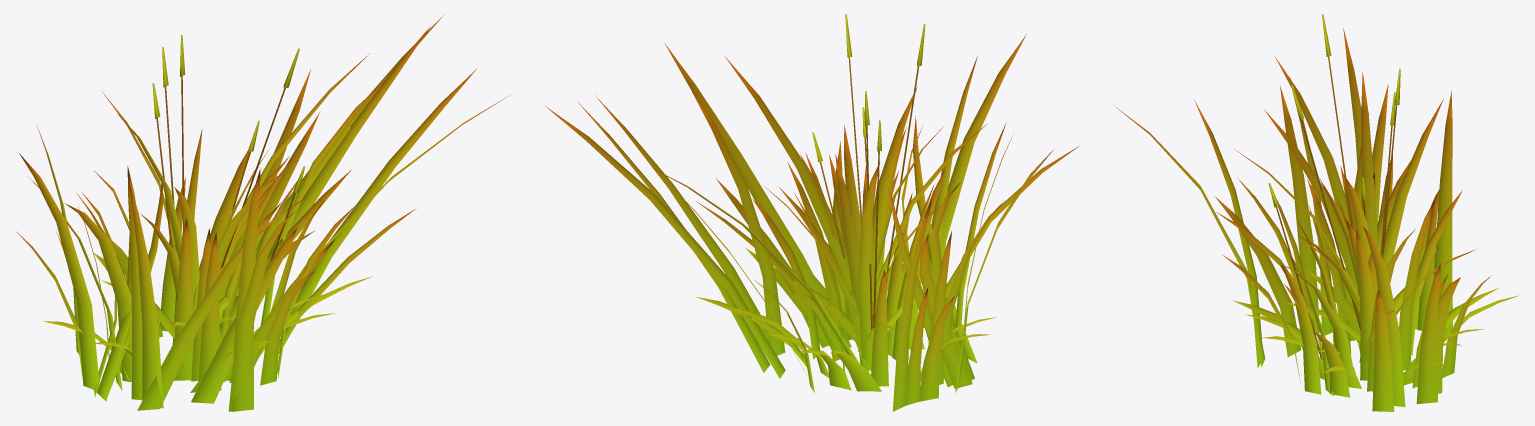
Rendered from seaoats.glb.
3 views of the same model, side by side, from view 1: azimuth 30°, elevation 25°; view 2: azimuth 150°, elevation 25°; view 3: azimuth 270°, elevation 25° (orthographic). The views are drawn at different scales.
Visible parts, largest first — view 1: v0, v1, v3, v2; view 2: v1, v0, v3, v2; view 3: v0, v1, v3, v2.
Boxes of the visible parts, x1=… form: v0: x1=16, y1=78, x2=387, y2=411; v1: x1=82, y1=15, x2=511, y2=410; v3: x1=102, y1=35, x2=369, y2=380; v2: x1=56, y1=129, x2=355, y2=400; v1: x1=545, y1=43, x2=977, y2=391; v0: x1=692, y1=34, x2=1080, y2=411; v3: x1=725, y1=14, x2=987, y2=371; v2: x1=752, y1=122, x2=1006, y2=405; v0: x1=1114, y1=28, x2=1519, y2=406; v1: x1=1215, y1=113, x2=1498, y2=411; v3: x1=1216, y1=14, x2=1443, y2=362; v2: x1=1222, y1=77, x2=1492, y2=396.
Size of the model in its own units: 16.75 by 11.74 by 12.96.
